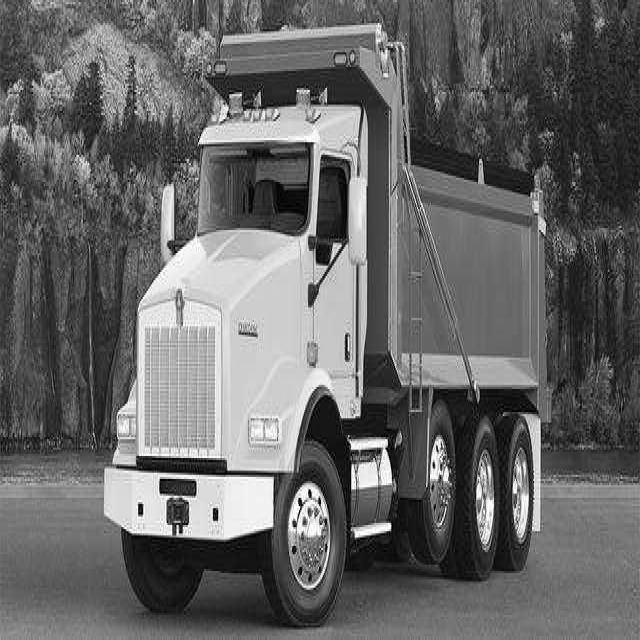Truck: (104, 24, 545, 626)
